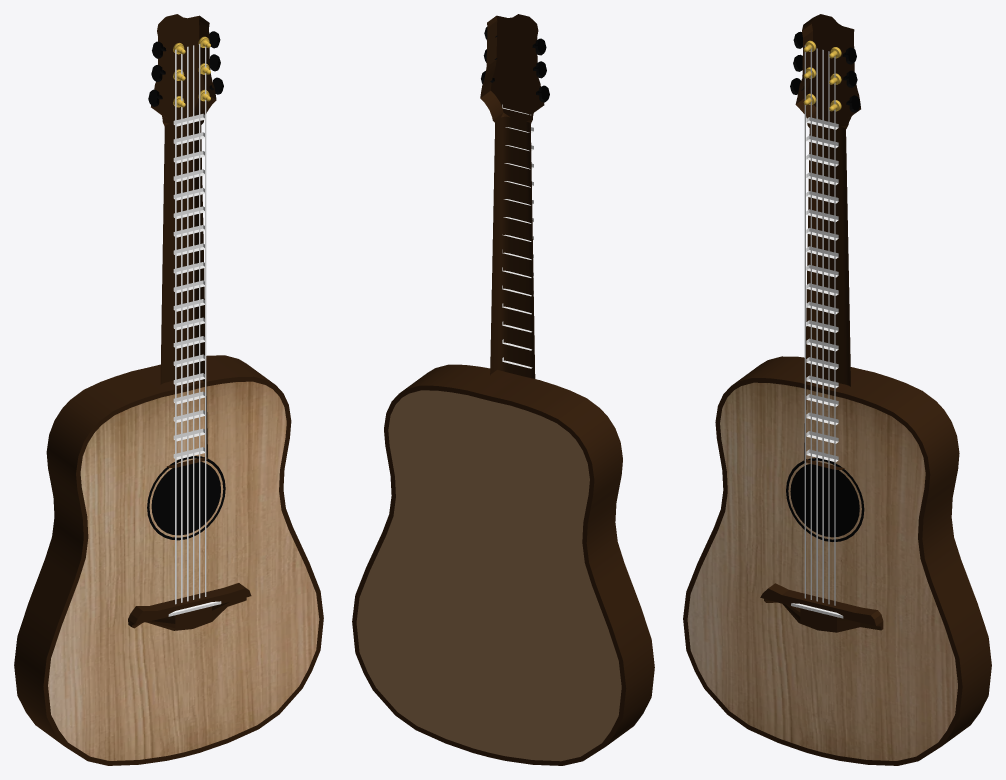
The model's file is guitar.glb.
3 renders of one model, left to right at view 1: azimuth 30°, elevation 25°; view 2: azimuth 150°, elevation 25°; view 3: azimuth 330°, elevation 25°, orthographic. The views are drawn at different scales.
Parts seen in each view (by area): view 1: simpleGuitar; view 2: simpleGuitar; view 3: simpleGuitar.
Part boxes in pixels (x1,y1,x2,y2): simpleGuitar: (14,14,323,765); simpleGuitar: (352,14,654,765); simpleGuitar: (683,14,991,765).
Bounding box in the file's own units: 0.3757 × 0.9436 × 0.0895.
Materials: 5 (1 with a texture image).
